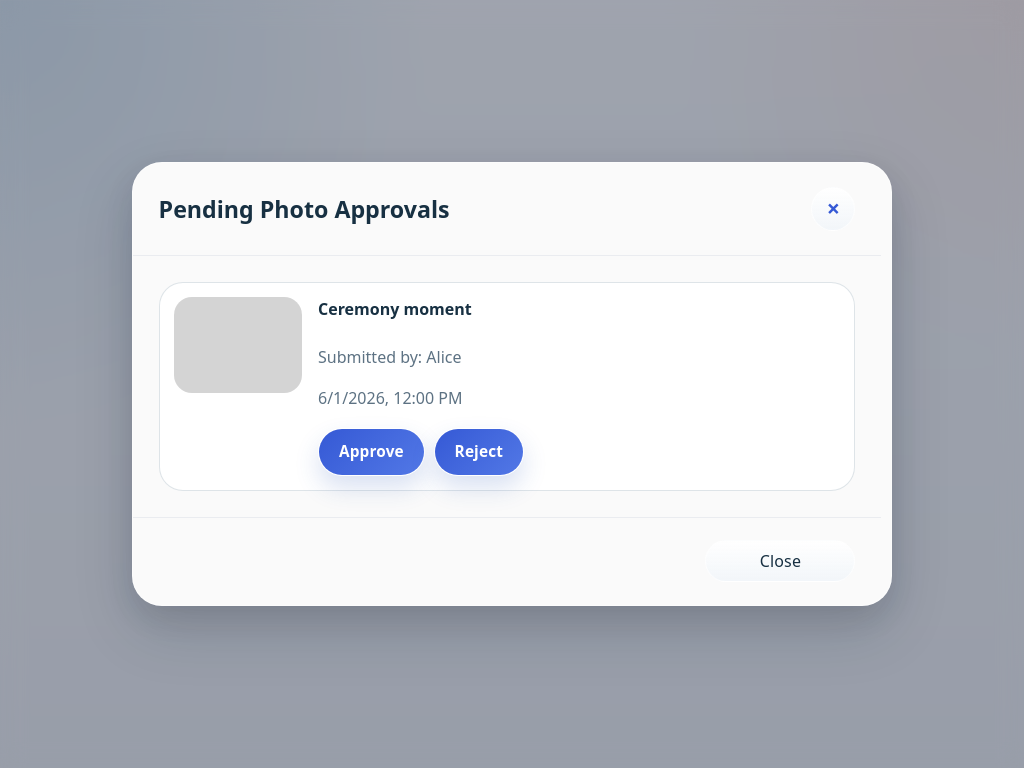
Scenario: GalleryApprovalModal › shows action error when approve/reject request fails
Check: the text "Ceremony moment" is shown, box [318, 298, 472, 320]
Click the button "Reject" at (479,452), box [434, 428, 524, 476]
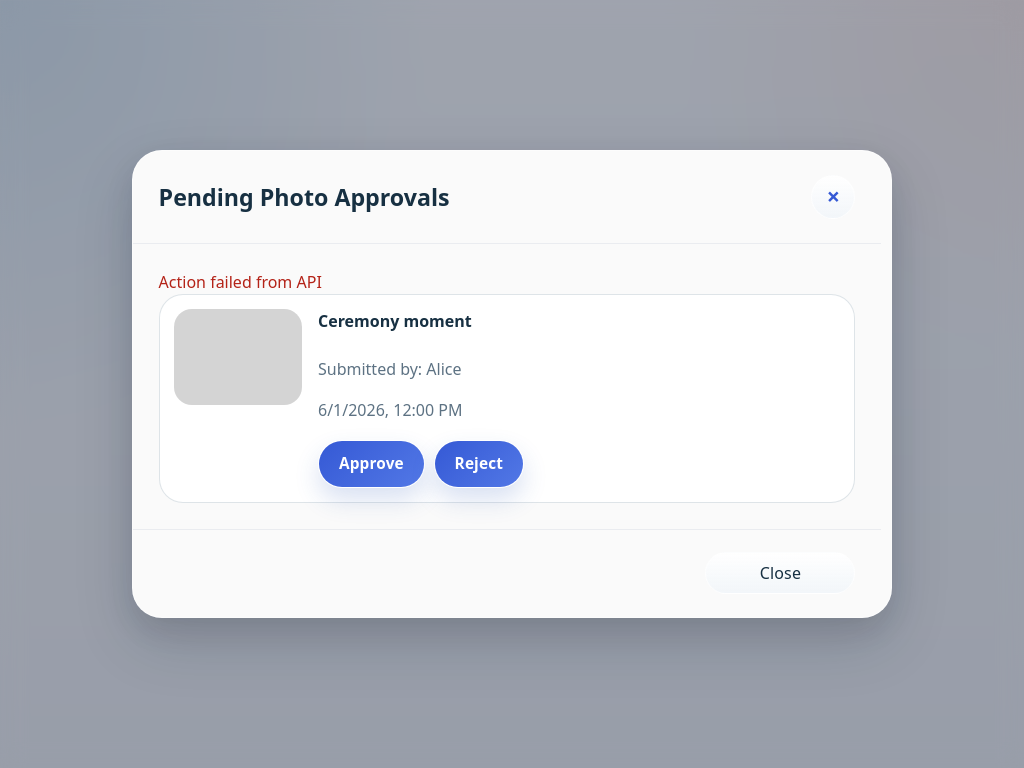
Check: the text "Action failed from API" is shown, box [159, 271, 322, 293]
